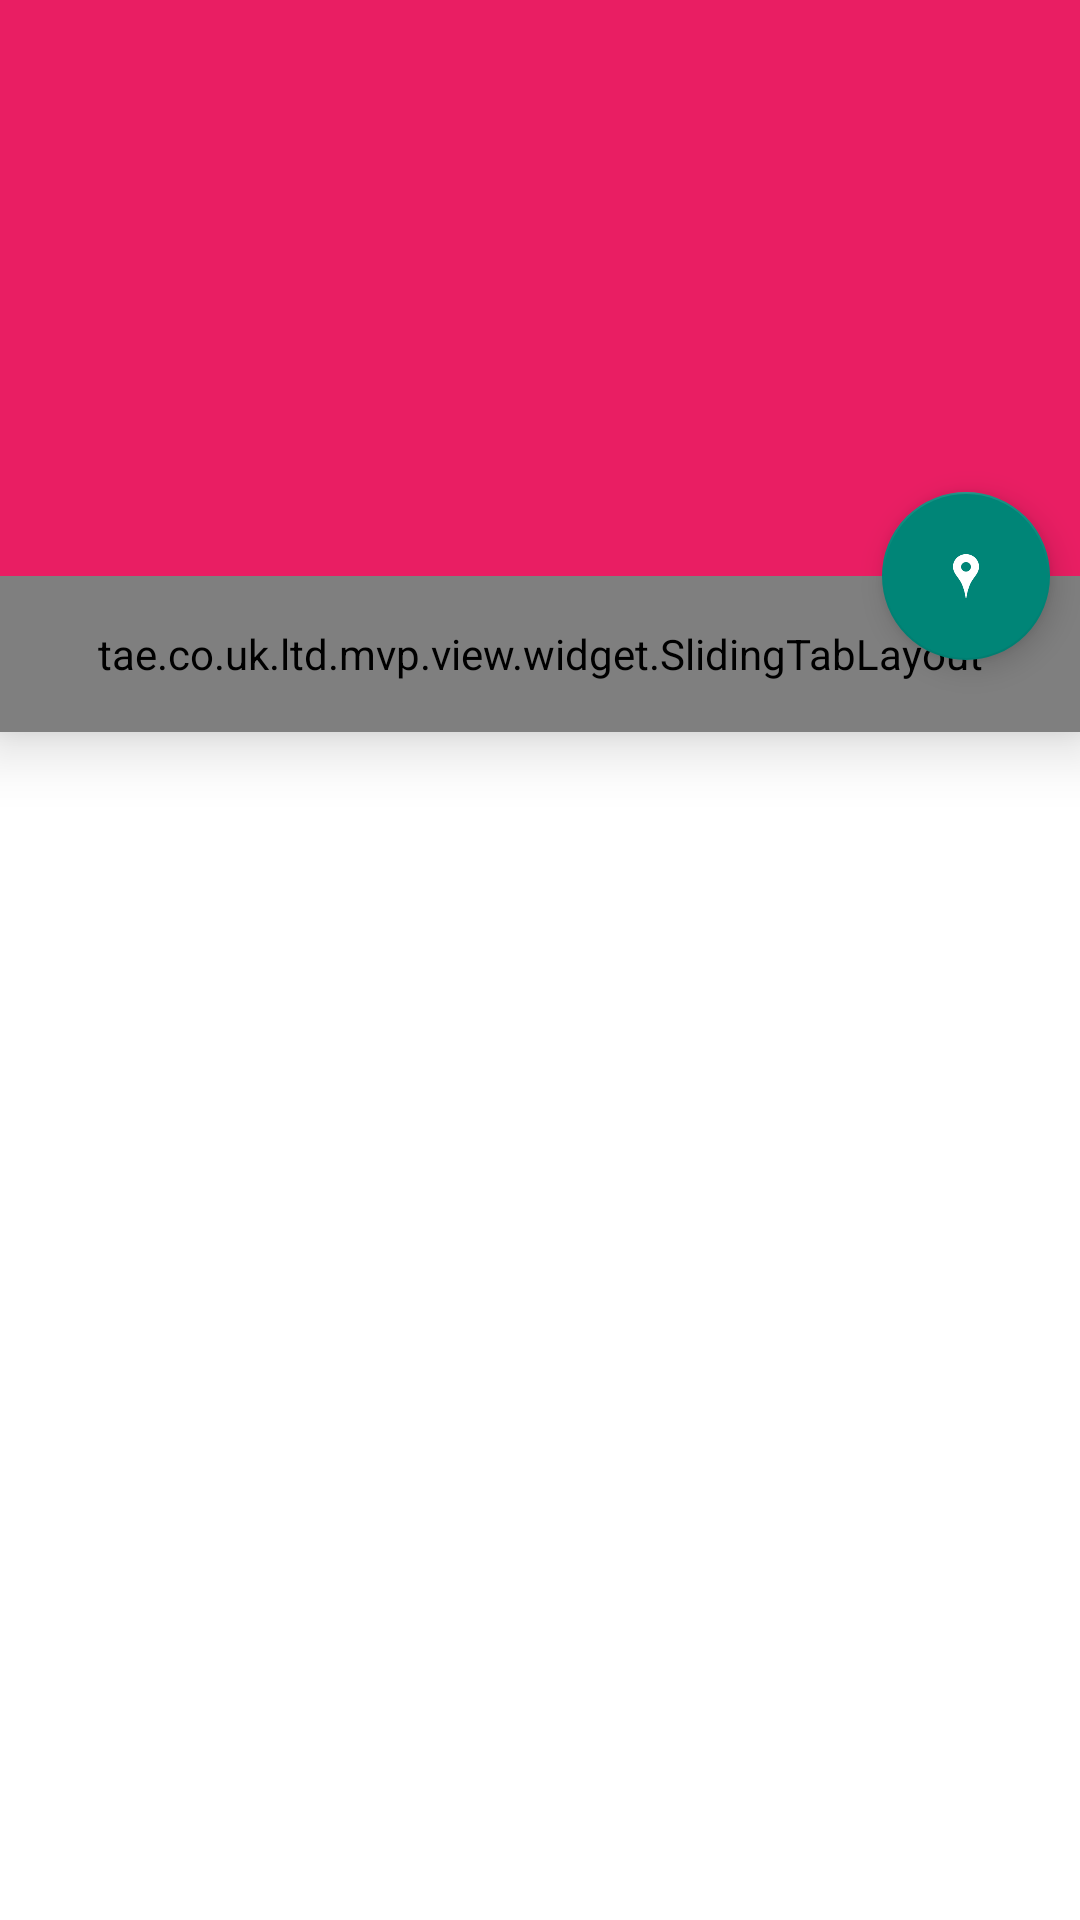

Named icons in this screenshot (1080px×1920px) and their centers, (x,y):
map: (966,576)
